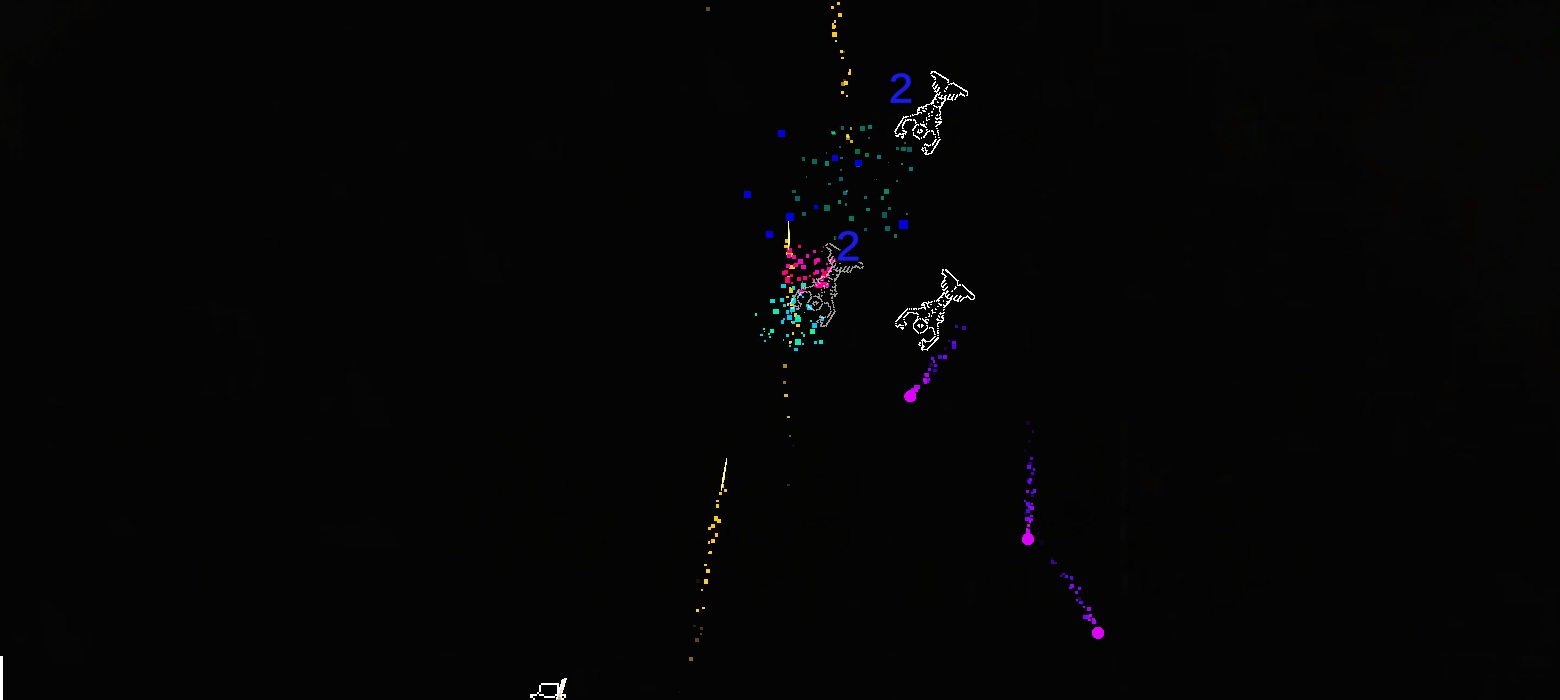enemy: (895, 268, 976, 351), (894, 70, 969, 156), (790, 242, 864, 328)
